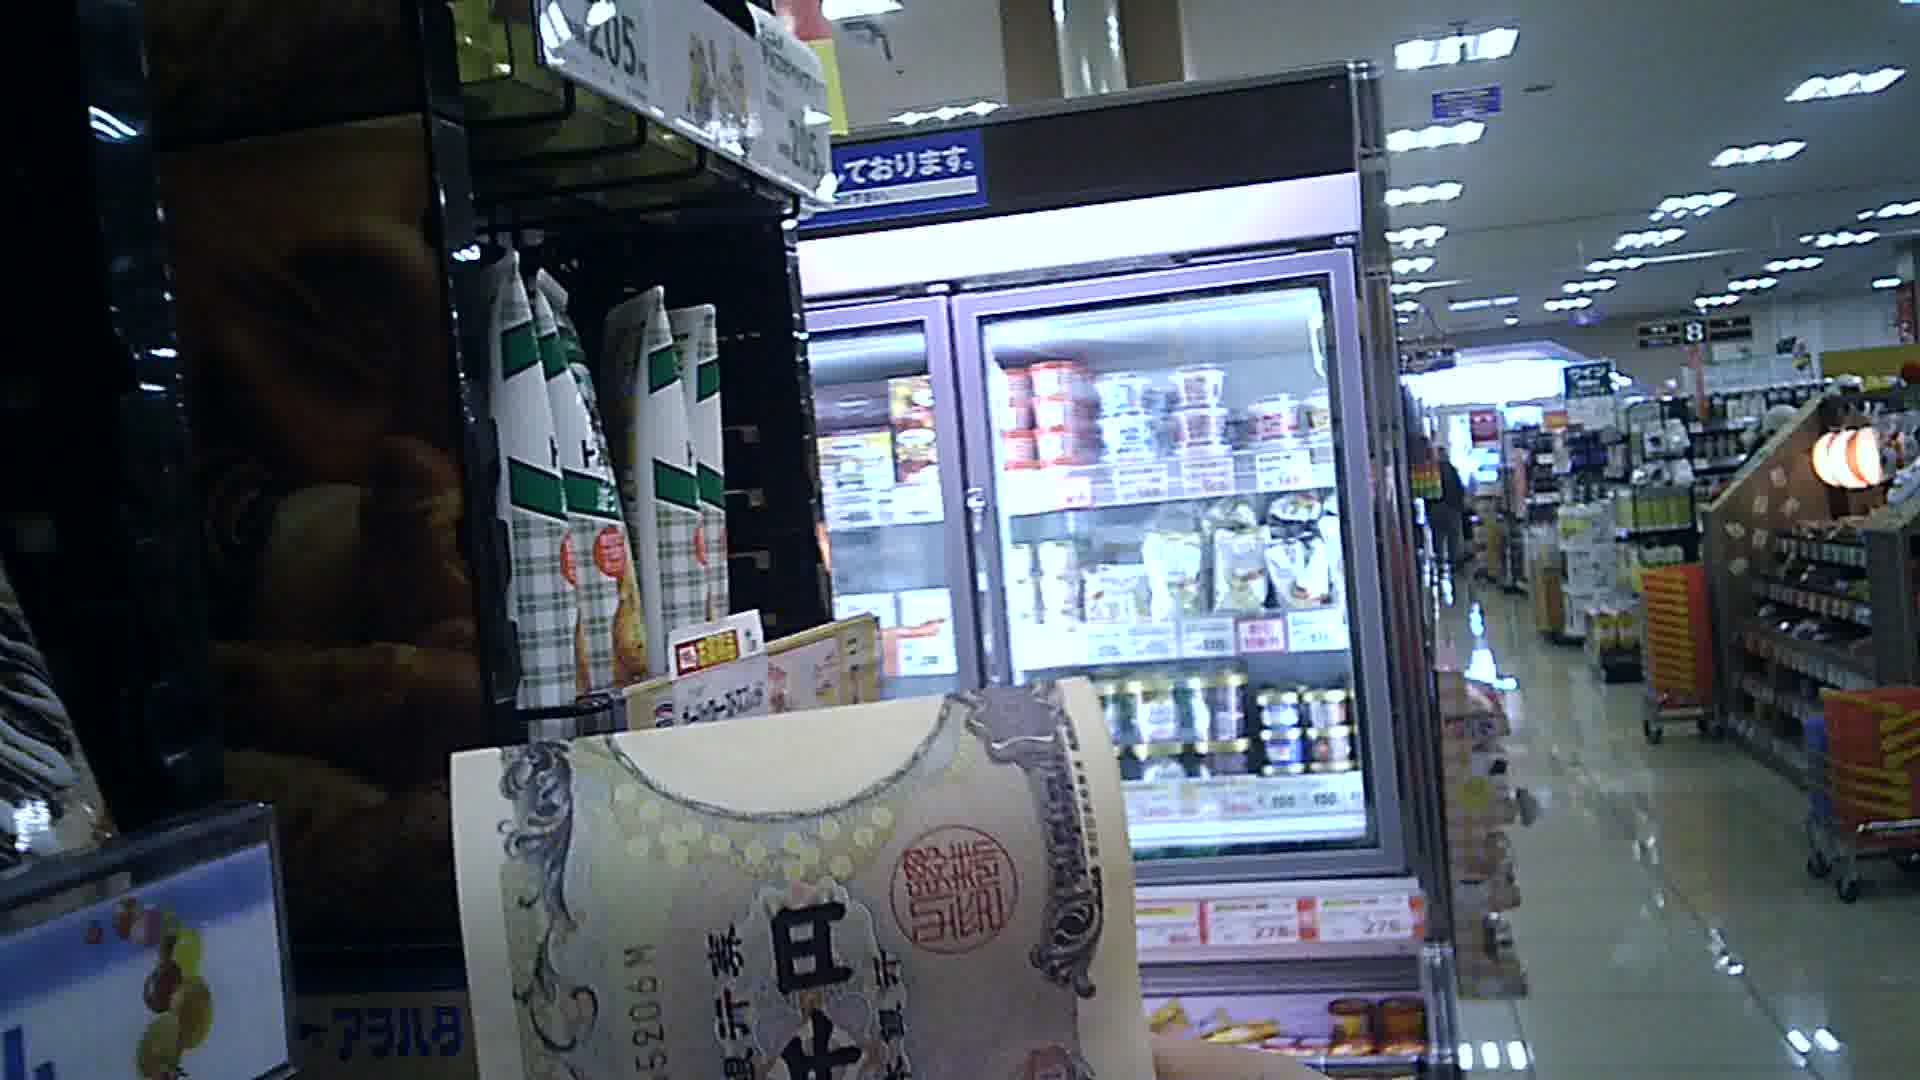5,000 Yen: (443, 686, 1159, 1077)
